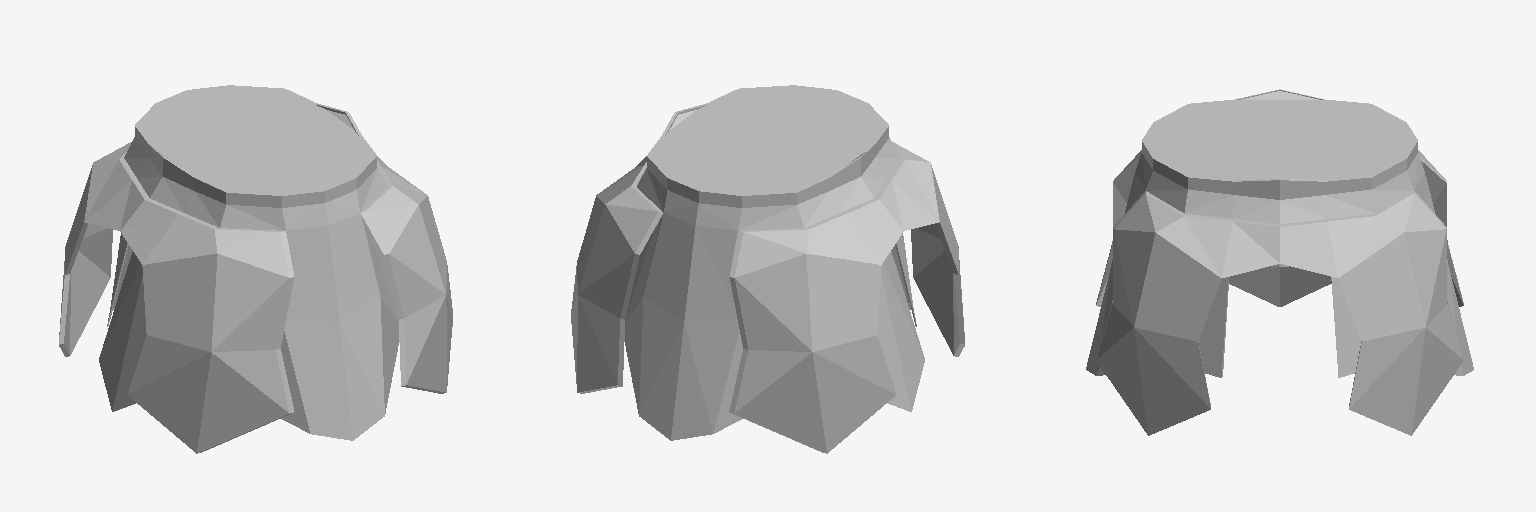
Rendered from Boss_Waist.obj.
3 views of the same model, side by side, from view 1: azimuth 30°, elevation 25°; view 2: azimuth 150°, elevation 25°; view 3: azimuth 270°, elevation 25° (orthographic).
Parts seen in each view (by area): view 1: 立方体.008; view 2: 立方体.008; view 3: 立方体.008.
Boxes of the visible parts, box(x1,y1,x2,y2) form: 立方体.008: box(59, 85, 452, 453); 立方体.008: box(571, 85, 964, 453); 立方体.008: box(1086, 89, 1473, 435).
Size of the model in its own units: 6.11 by 4.34 by 6.3.